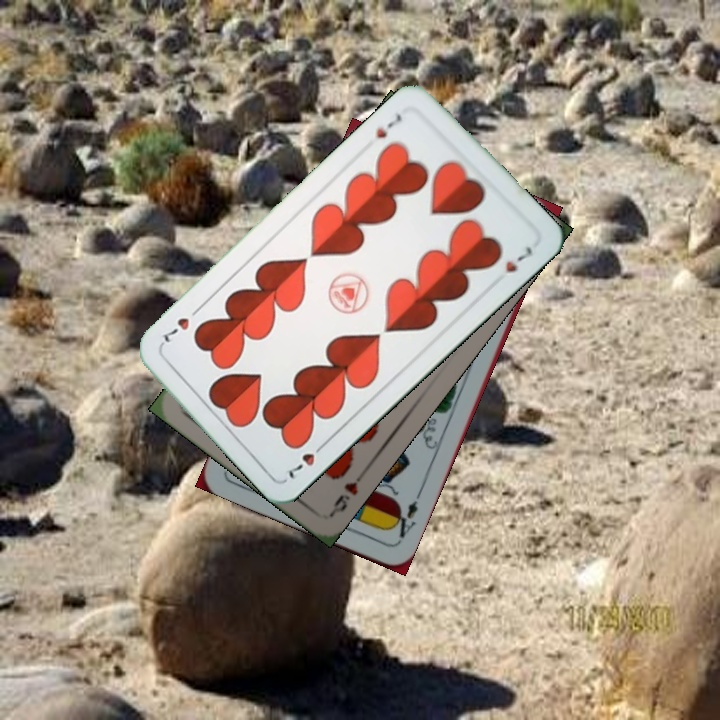EA: (387, 488, 423, 545)
H7: (284, 437, 329, 482), (371, 108, 405, 141)
H9: (327, 466, 369, 517)
